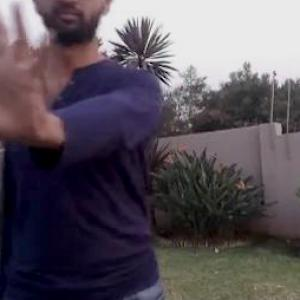follow_hand: (1, 0, 60, 151)
